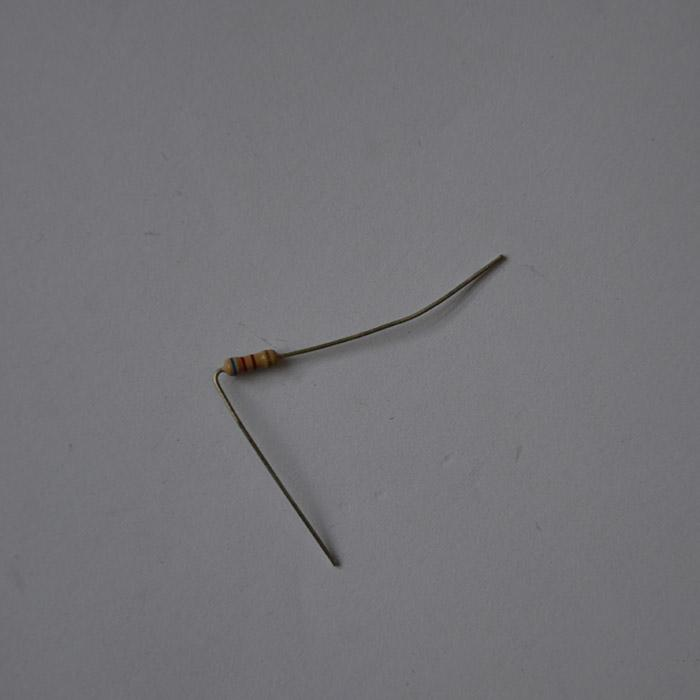resistor: (221, 348, 278, 375)
